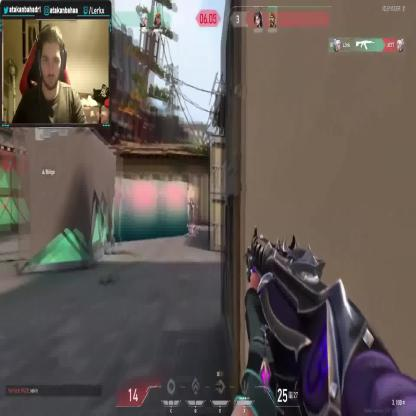enemy: (188, 197, 198, 231)
enemy_head: (191, 197, 194, 202)
